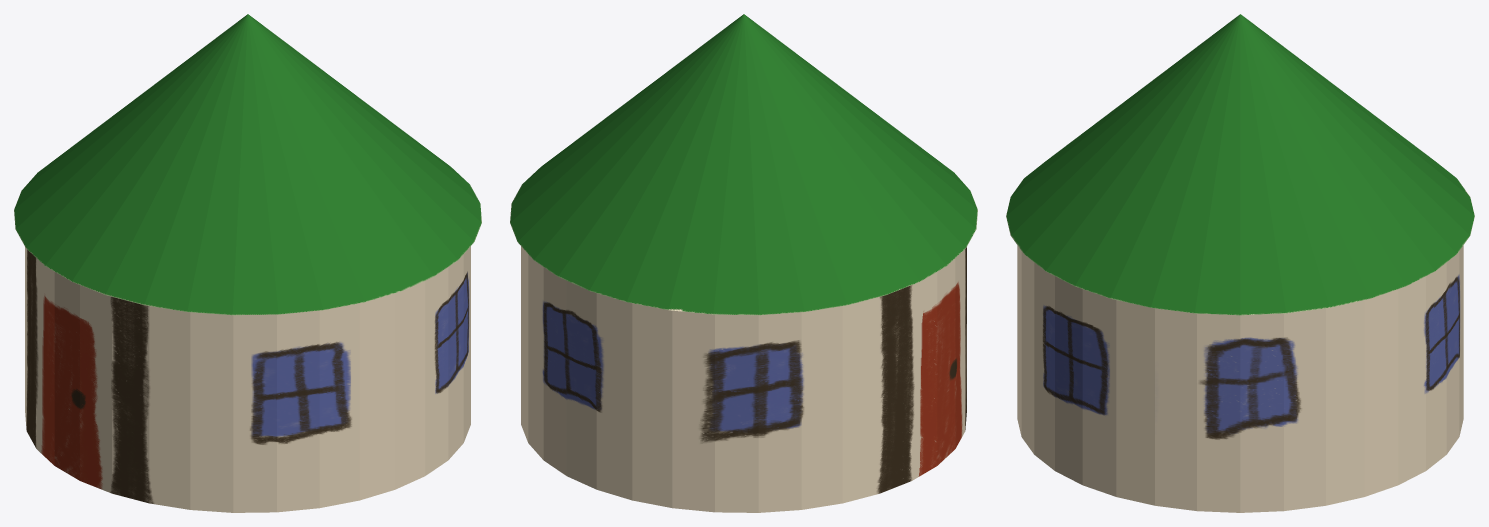
The model's file is house.glb.
3 views of the same model, side by side, from view 1: azimuth 30°, elevation 25°; view 2: azimuth 150°, elevation 25°; view 3: azimuth 270°, elevation 25° (orthographic).
Parts seen in each view (by area): view 1: Mesh, Cylinder; view 2: Mesh, Cylinder; view 3: Mesh, Cylinder.
Boxes of the visible parts, <box> form: Mesh: <box>14,14,481,315</box>; Cylinder: <box>25,246,470,512</box>; Mesh: <box>510,14,977,315</box>; Cylinder: <box>521,246,966,512</box>; Mesh: <box>1006,14,1474,315</box>; Cylinder: <box>1017,245,1463,512</box>.
Bounding box in the file's own units: 4.2 × 4 × 4.2.
2 materials, 2 textured.
